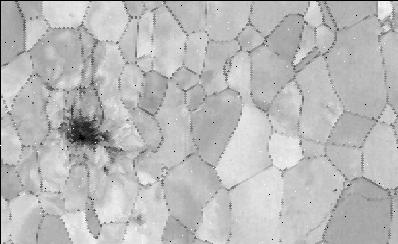good_void: (54, 99, 109, 156), (102, 142, 124, 164), (73, 84, 92, 102), (125, 211, 145, 228), (41, 82, 56, 94), (100, 163, 109, 174), (345, 181, 352, 187), (331, 186, 337, 192), (30, 100, 34, 105)
